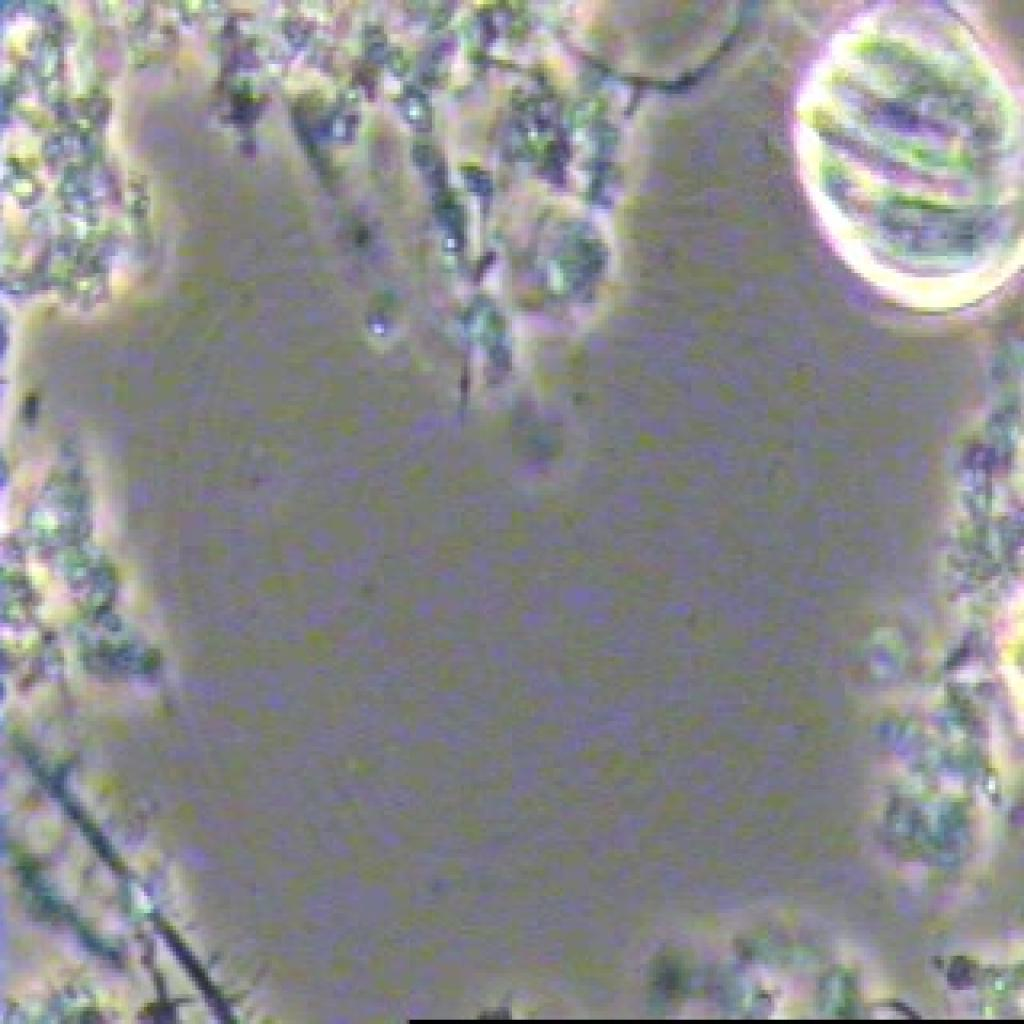Aspidisca: (750, 8, 1022, 346)
